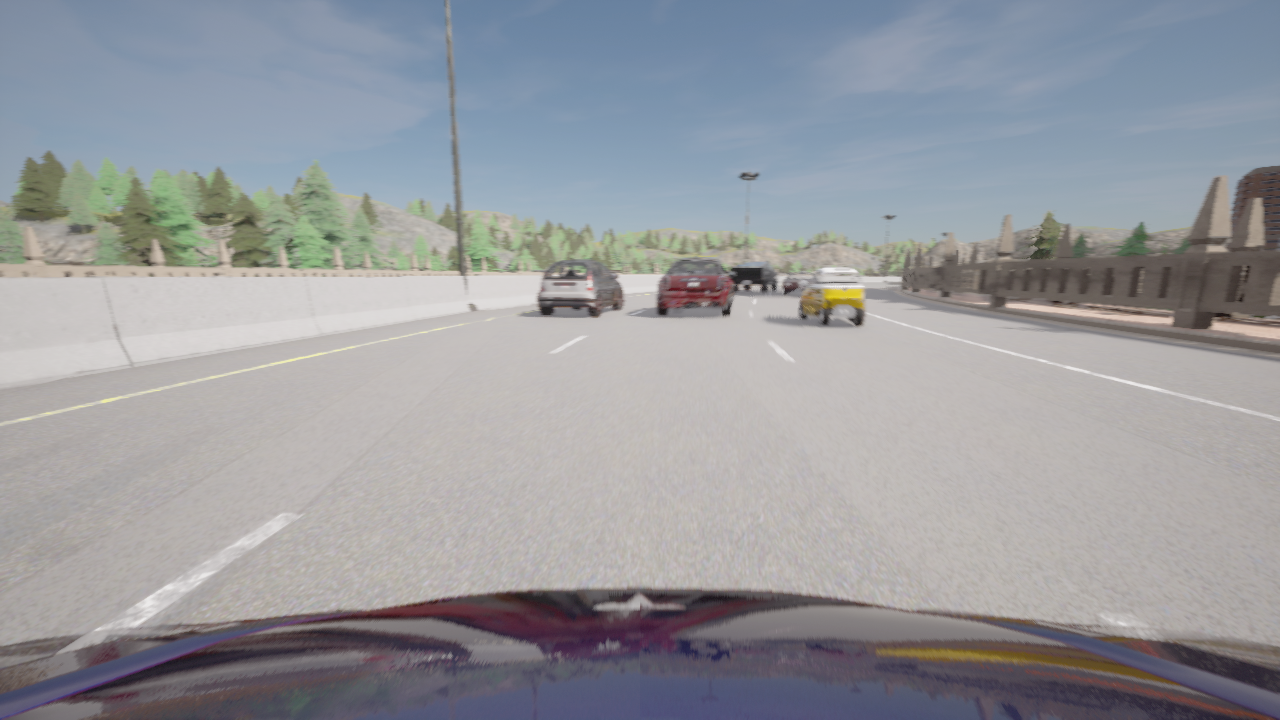cyclist: (0, 588, 1279, 719), (657, 253, 735, 316), (538, 260, 623, 316), (800, 267, 865, 326), (731, 261, 778, 292), (782, 272, 813, 295)
